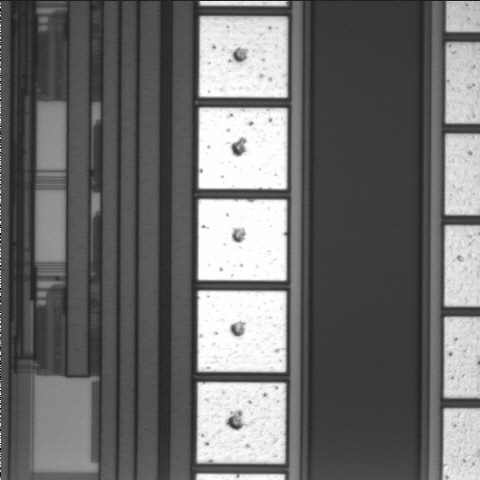pad: (199, 16, 288, 98), (198, 199, 287, 281), (197, 382, 286, 464), (198, 108, 287, 189), (198, 291, 286, 372)
